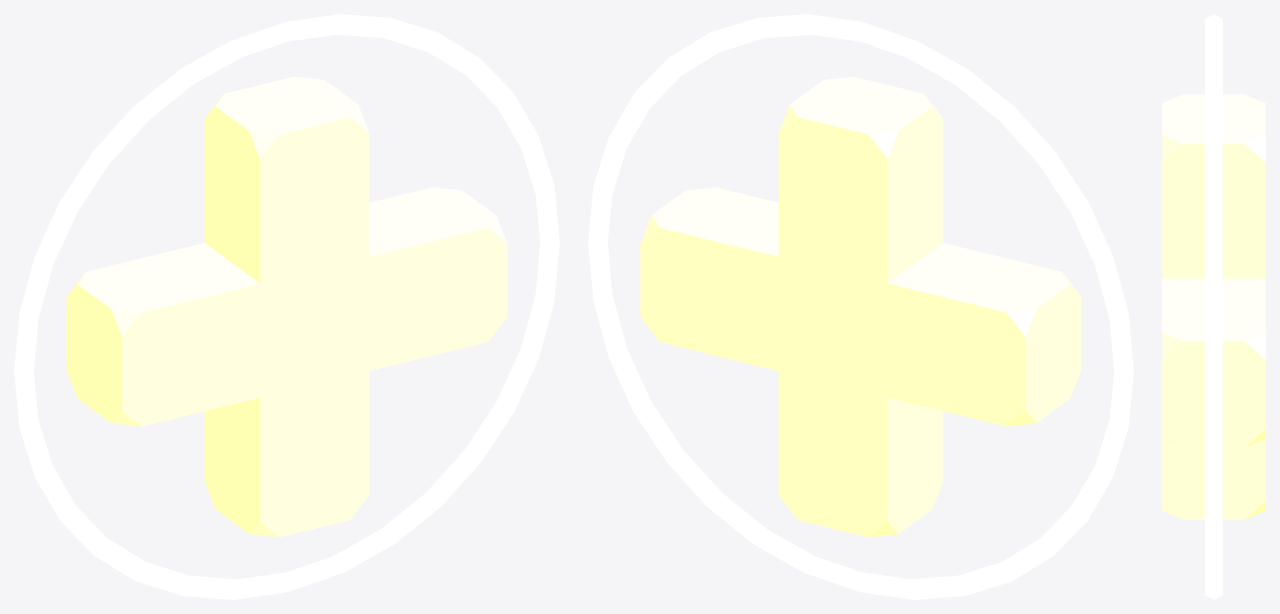
The model's file is Aegis-Repair-v3.0.0.glb.
3 views of the same model, side by side, from view 1: azimuth 30°, elevation 25°; view 2: azimuth 150°, elevation 25°; view 3: azimuth 270°, elevation 25° (orthographic). The views are drawn at different scales.
Visible parts, largest first — view 1: vertical, horizontal, halo; view 2: vertical, horizontal, halo; view 3: vertical, horizontal, halo.
Part boxes in pixels (x1,y1,x2,y2): vertical: [204, 76, 369, 537]; horizontal: [66, 187, 507, 426]; halo: [14, 14, 559, 599]; vertical: [778, 76, 943, 537]; horizontal: [640, 187, 1081, 426]; halo: [588, 14, 1133, 599]; vertical: [1162, 94, 1265, 519]; horizontal: [1162, 278, 1265, 447]; halo: [1205, 14, 1222, 599].
Size of the model in its own units: 1.7 by 1.7 by 0.3.
